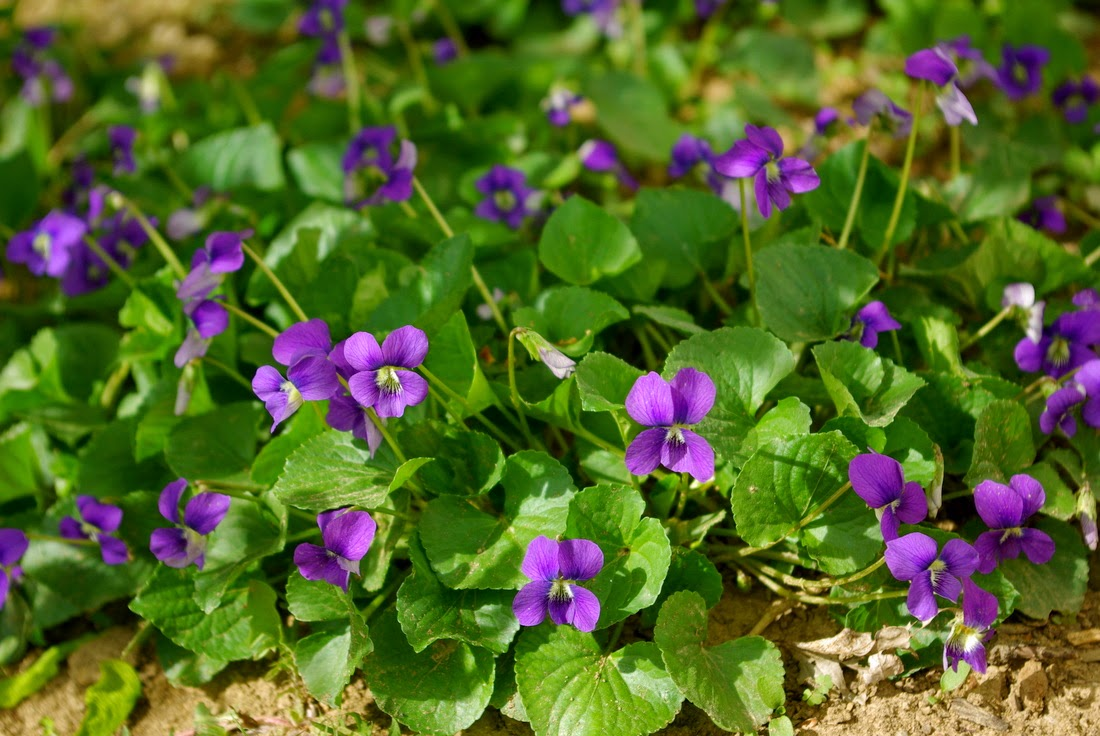violet: (1000, 288, 1100, 433), (619, 368, 725, 480), (513, 533, 618, 635), (964, 465, 1059, 571), (873, 529, 975, 627), (705, 128, 808, 221), (841, 448, 933, 547), (334, 325, 433, 413), (250, 332, 341, 423), (293, 506, 385, 592), (146, 484, 231, 576), (161, 223, 262, 288)
